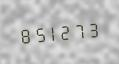eight: (17, 23, 30, 46)
five: (31, 22, 44, 45)
one: (46, 21, 59, 43)
seven: (74, 18, 87, 41)
three: (88, 17, 101, 40)
two: (60, 19, 73, 42)
